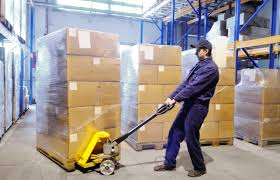Pallet Jack: (36, 99, 178, 177)
Racks: (141, 1, 280, 70), (1, 1, 34, 135)
